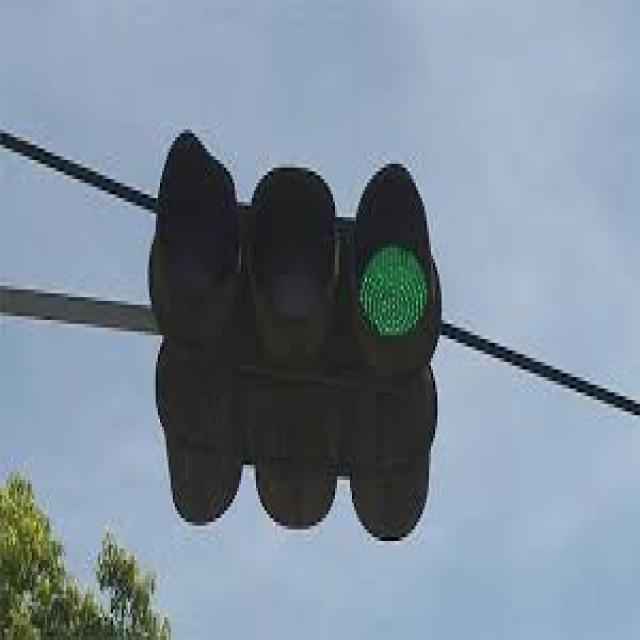green: (352, 197, 438, 364)
